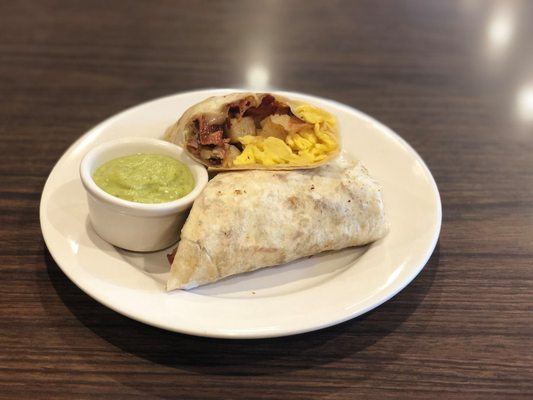pizza: (79, 136, 209, 253)
sushi: (79, 135, 209, 254)
